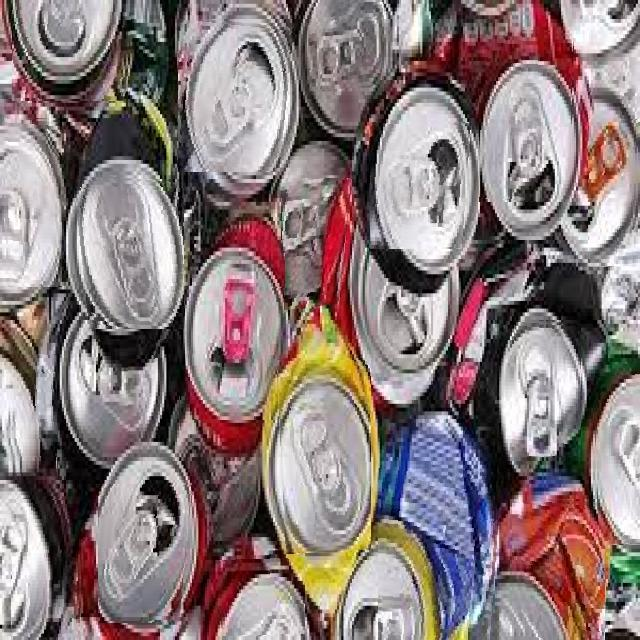Cans: (378, 461, 502, 640), (276, 360, 371, 554), (178, 16, 294, 172), (73, 173, 184, 329), (185, 252, 285, 420), (479, 28, 573, 202), (98, 480, 193, 623), (370, 115, 471, 249), (512, 495, 605, 640), (12, 3, 132, 102), (496, 317, 581, 456), (61, 340, 180, 438), (11, 484, 85, 640), (0, 116, 62, 287), (588, 78, 640, 266), (281, 178, 353, 312), (592, 362, 640, 546), (218, 549, 305, 636), (307, 2, 383, 92), (6, 346, 57, 476)
